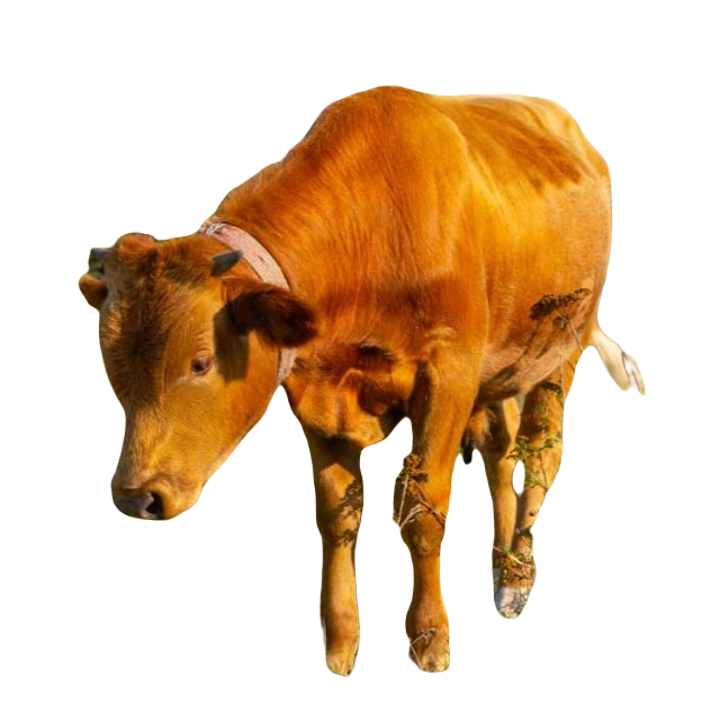Cow: (80, 84, 643, 676)
